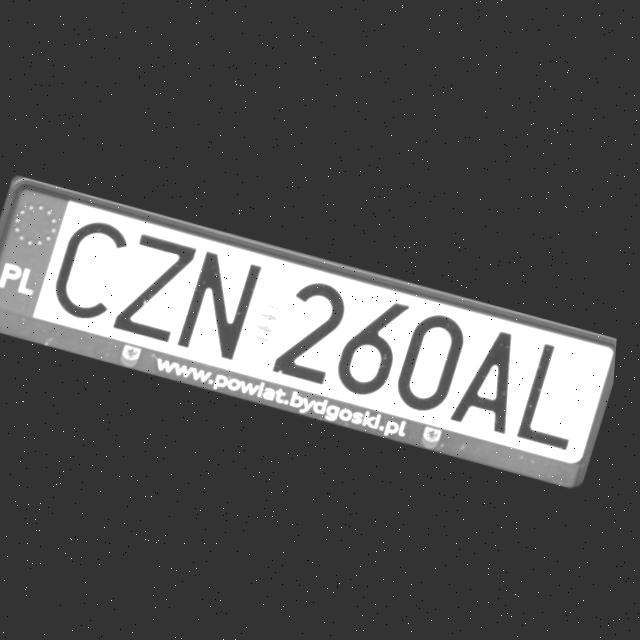license-plates: (0, 178, 617, 486)
